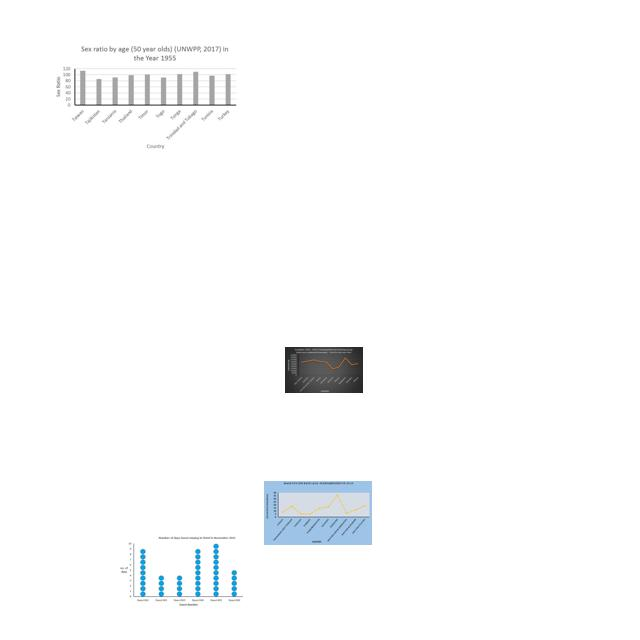Graph: (50, 42, 239, 153), (119, 535, 243, 608), (264, 481, 372, 545), (285, 347, 363, 393)
